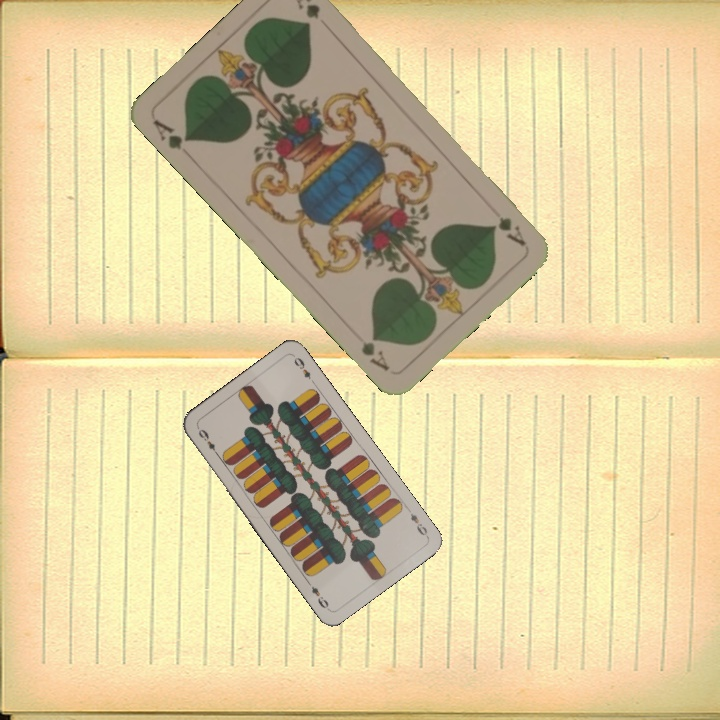E9: (403, 504, 430, 540), (194, 425, 222, 459)
GA: (483, 200, 528, 249), (148, 115, 195, 153)
